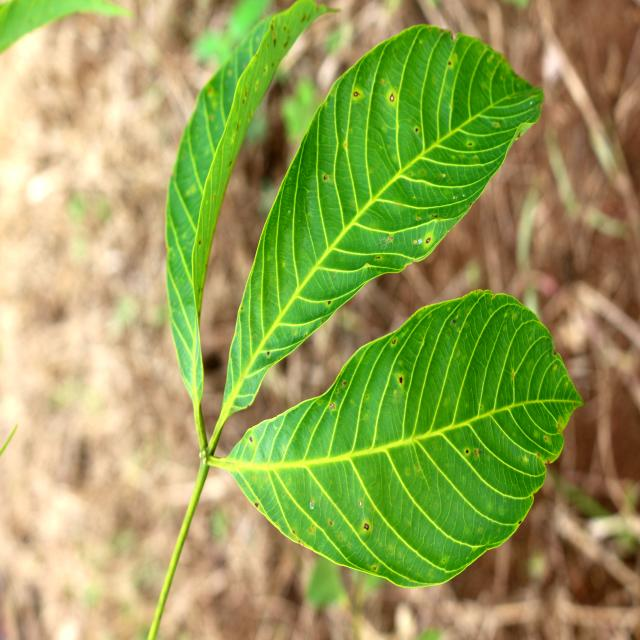Colletotrichum: (390, 94, 394, 102), (364, 524, 369, 530), (426, 238, 430, 243), (354, 92, 358, 96), (376, 256, 380, 260), (400, 377, 402, 383), (250, 436, 252, 442)
